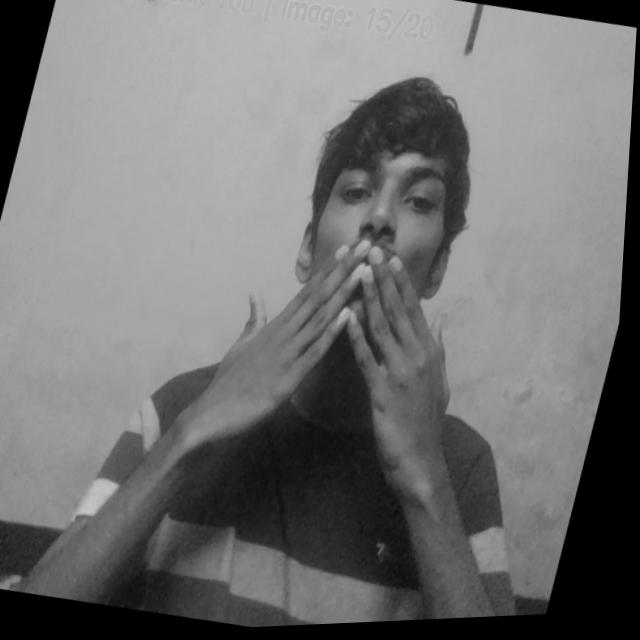Thank You: (205, 214, 500, 486)
